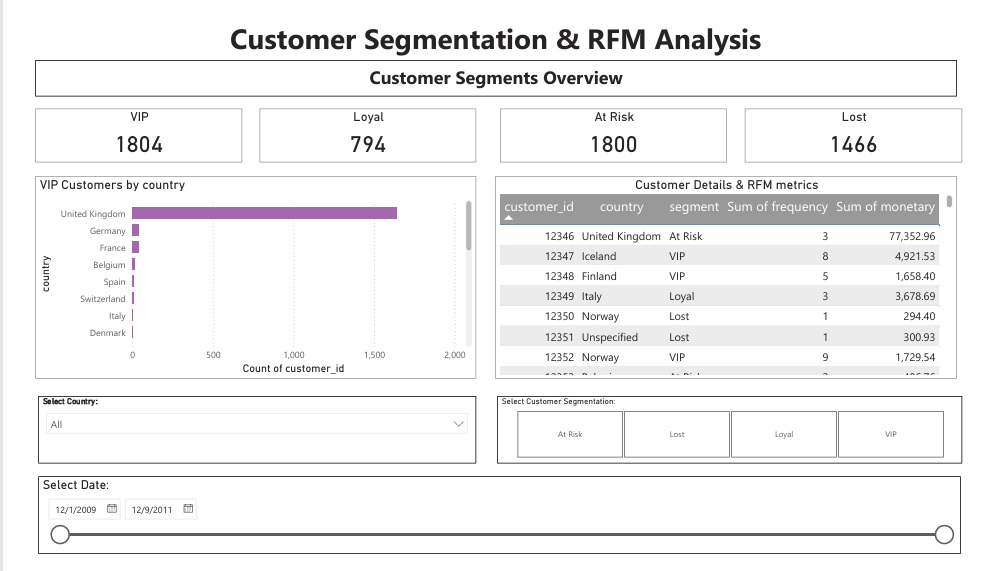

Layout of this report page (visuals, bound fields, positions):
{"tool":"powerbi","page":{"name":"Page 2","canvas":[1280,720],"ordinal":1},"visuals":[{"type":"textbox","box":[0,0,1280,61],"z":0},{"type":"card","title":"VIP","fields":{"Values":["CountNonNull(public dim_customers.customer_id)"]},"box":[18.5,125,277.8,71.8],"z":1000},{"type":"card","title":"Loyal","fields":{"Values":["CountNonNull(public dim_customers.customer_id)"]},"box":[319.4,125,289.3,71.8],"z":2000},{"type":"card","title":"At Risk","fields":{"Values":["CountNonNull(public dim_customers.customer_id)"]},"box":[641.2,125,303.2,71.8],"z":3000},{"type":"card","title":"Lost","fields":{"Values":["CountNonNull(public dim_customers.customer_id)"]},"box":[967.5,125,291.6,71.8],"z":4000},{"type":"clusteredBarChart","title":"VIP Customers by country","fields":{"Category":["public dim_customers.country"],"Y":["CountNonNull(public dim_customers.customer_id)"]},"box":[18.5,215.3,590.2,270.8],"z":5000},{"type":"tableEx","title":"Customer Details & RFM metrics","fields":{"Values":["public dim_customers.customer_id","public dim_customers.country","public dim_customers.segment","Sum(public dim_customers.frequency)","Sum(public dim_customers.monetary)"]},"box":[634.2,215.3,618,270.8],"z":6000},{"type":"textbox","box":[18.5,60.2,1233.7,48.6],"z":7000},{"type":"slicer","title":"Select Country:","fields":{"Values":["public dim_customers.country"]},"box":[23.1,509.2,585.6,90.3],"z":8000},{"type":"slicer","title":"Select Date:","fields":{"Values":["public fct_orders.invoice_date"]},"box":[23.1,615.7,1233.7,104.2],"z":9000},{"type":"slicer","title":"Select Customer Segmentation:","fields":{"Values":["public dim_customers.segment"]},"box":[636.5,509.2,622.6,90.3],"z":10000}]}

Visuals, with their boxes in screenshot pixels (x1, y1, x2, y2), scaled from the page's 1280x720 canvas onto the 993x571 screenshot:
textbox: {"x1": 0, "y1": 0, "x2": 992, "y2": 48}
"VIP" card: {"x1": 14, "y1": 99, "x2": 230, "y2": 156}
"Loyal" card: {"x1": 248, "y1": 99, "x2": 472, "y2": 156}
"At Risk" card: {"x1": 497, "y1": 99, "x2": 733, "y2": 156}
"Lost" card: {"x1": 751, "y1": 99, "x2": 977, "y2": 156}
"VIP Customers by country" clusteredBarChart: {"x1": 14, "y1": 171, "x2": 472, "y2": 386}
"Customer Details & RFM metrics" tableEx: {"x1": 492, "y1": 171, "x2": 971, "y2": 386}
textbox: {"x1": 14, "y1": 48, "x2": 971, "y2": 86}
"Select Country:" slicer: {"x1": 18, "y1": 404, "x2": 472, "y2": 475}
"Select Date:" slicer: {"x1": 18, "y1": 488, "x2": 975, "y2": 570}
"Select Customer Segmentation:" slicer: {"x1": 494, "y1": 404, "x2": 977, "y2": 475}
